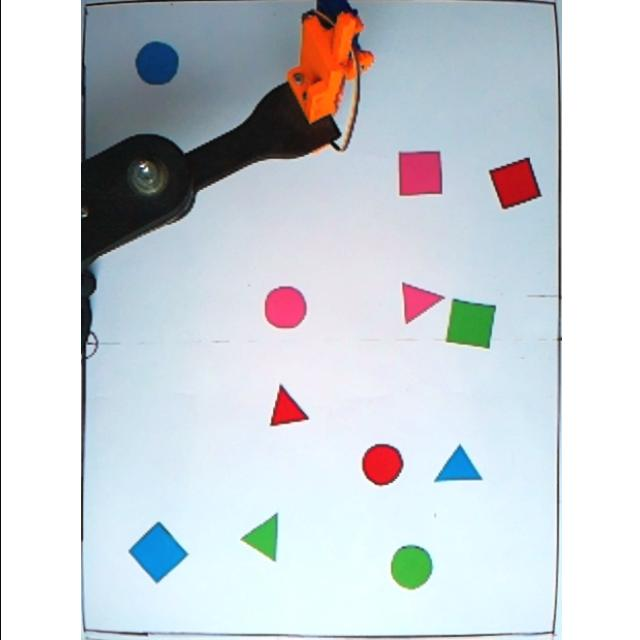blueCircle: (132, 40, 180, 86)
blueSquare: (125, 522, 187, 584)
blueTriangle: (430, 442, 482, 484)
greenCircle: (388, 543, 432, 591)
greenSquare: (444, 298, 496, 349)
greenTriangle: (237, 512, 281, 562)
pinkCircle: (262, 286, 304, 330)
pinkSquare: (392, 150, 442, 197)
pinkTriangle: (395, 281, 443, 325)
redCircle: (360, 442, 402, 488)
redSquare: (484, 157, 542, 210)
redTriangle: (266, 384, 308, 428)
